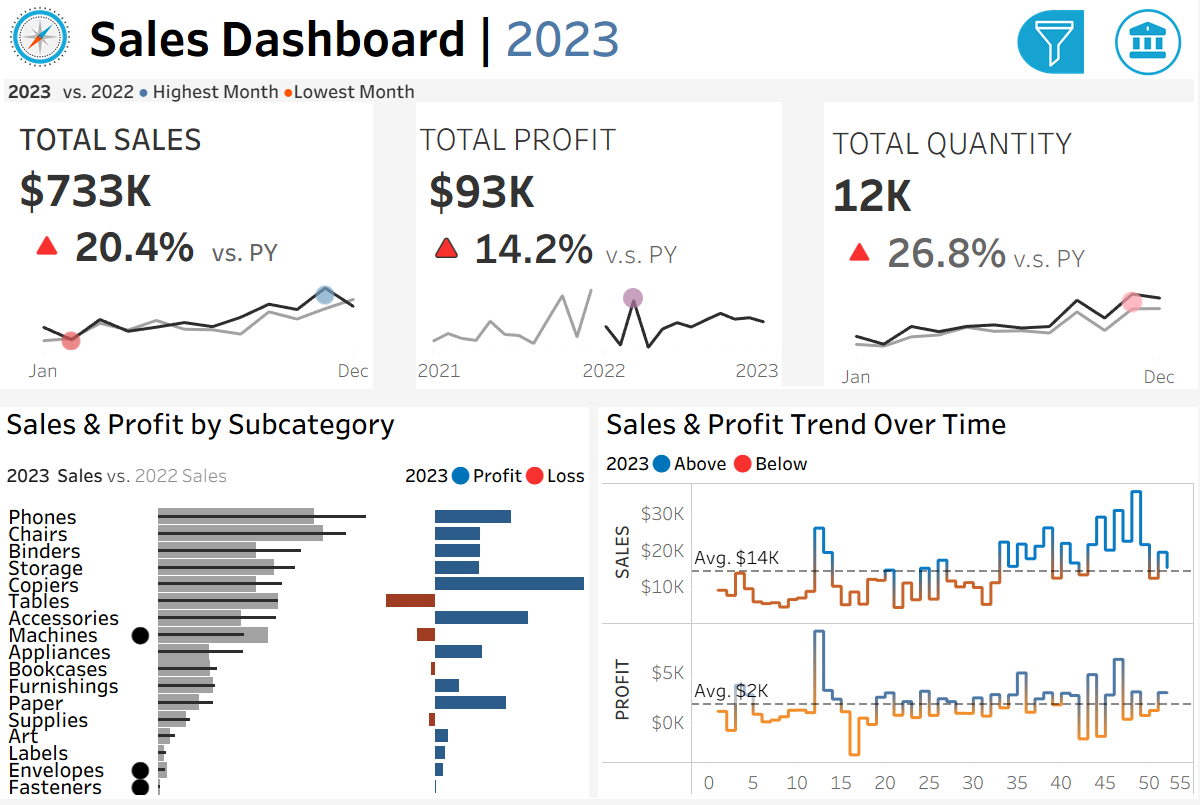

What the dashboard file says about the page in this screenshot:
{"tool":"tableau","page":{"name":"sales dashboard","canvas":[1200,800],"ordinal":0},"visuals":[{"type":"image","param":"Image/Icon - Logo.png","box":[0,0,83,76]},{"type":"text","box":[83,0,916,76]},{"type":"blank","box":[968,1,233,95]},{"type":"dashboard-object","box":[1002,5,99,76]},{"type":"dashboard-object","box":[1101,5,98,76]},{"type":"worksheet","title":"legend-kpi","mark":"Automatic","box":[0,76,1200,31]},{"type":"text","box":[968,96,233,47]},{"type":"blank","box":[375,100,43,290]},{"type":"blank","box":[784,101,42,286]},{"type":"worksheet","title":"KPI SALES","mark":"Automatic","rows":["Calculation_0355202234413060"],"cols":["Order Date"],"box":[0,107,400,293]},{"type":"worksheet","title":"KPI PROFIT","mark":"Automatic","rows":["Calculation_0847508627963913"],"cols":["Order Date"],"box":[400,107,400,293]},{"type":"worksheet","title":"KPI QUANTITY","mark":"Automatic","rows":["Calculation_0847508628475914"],"cols":["Order Date"],"box":[800,107,400,293]},{"type":"parameter","param":"[Parameters].[Parameter 1]","box":[968,143,233,60]},{"type":"text","box":[968,203,233,39]},{"type":"filter","title":"KPI SALES","param":"[federated.06dhms10vedjig11m1vn91yoiat6].[none:Category:nk]","box":[968,242,233,70]},{"type":"blank","box":[968,312,233,140]},{"type":"text","box":[0,400,600,47]},{"type":"text","box":[600,400,600,47]},{"type":"blank","box":[591,408,9,391]},{"type":"worksheet","title":"Sheet 7","mark":"Automatic","box":[0,447,399,58]},{"type":"text","box":[399,447,201,58]},{"type":"text","box":[600,447,600,33]},{"type":"text","box":[968,452,233,39]},{"type":"worksheet","title":"WEEKLY TRENDS","mark":"Automatic","rows":["Calculation_0355202227863552","Calculation_0847508615479296"],"cols":["Order Date"],"box":[600,480,600,320]},{"type":"filter","title":"KPI SALES","param":"[federated.06dhms10vedjig11m1vn91yoiat6].[none:Country/Region:nk]","box":[968,491,233,94]},{"type":"worksheet","title":"Subcategory Comparison","mark":"Bar","rows":["Sub-Category","Calculation_0601218307100672"],"cols":["CY SALES (copy)_0355202228256769","Calculation_0355202227863552","Calculation_0847508615479296"],"box":[0,505,600,295]},{"type":"filter","title":"KPI SALES","param":"[federated.06dhms10vedjig11m1vn91yoiat6].[none:Region:nk]","box":[968,585,233,70]},{"type":"filter","title":"KPI SALES","param":"[federated.06dhms10vedjig11m1vn91yoiat6].[none:State:nk]","box":[968,655,233,70]},{"type":"filter","title":"KPI SALES","param":"[federated.06dhms10vedjig11m1vn91yoiat6].[none:City:nk]","box":[968,725,233,70]}]}

Visuals, with their boxes in screenshot pixels (x1, y1, x2, y2), scaled from the page's 1200x800 canvas onto the 1200x805 screenshot:
image: crop(0, 0, 83, 76)
text: crop(83, 0, 999, 76)
blank: crop(968, 1, 1199, 97)
dashboard-object: crop(1002, 5, 1101, 82)
dashboard-object: crop(1101, 5, 1199, 82)
"legend-kpi" worksheet: crop(0, 76, 1199, 108)
text: crop(968, 97, 1199, 144)
blank: crop(375, 101, 418, 392)
blank: crop(784, 102, 826, 389)
"KPI SALES" worksheet: crop(0, 108, 400, 403)
"KPI PROFIT" worksheet: crop(400, 108, 800, 403)
"KPI QUANTITY" worksheet: crop(800, 108, 1199, 403)
parameter: crop(968, 144, 1199, 204)
text: crop(968, 204, 1199, 244)
"KPI SALES" filter: crop(968, 244, 1199, 314)
blank: crop(968, 314, 1199, 455)
text: crop(0, 403, 600, 450)
text: crop(600, 403, 1199, 450)
blank: crop(591, 411, 600, 804)
"Sheet 7" worksheet: crop(0, 450, 399, 508)
text: crop(399, 450, 600, 508)
text: crop(600, 450, 1199, 483)
text: crop(968, 455, 1199, 494)
"WEEKLY TRENDS" worksheet: crop(600, 483, 1199, 804)
"KPI SALES" filter: crop(968, 494, 1199, 589)
"Subcategory Comparison" worksheet (Bar marks): crop(0, 508, 600, 804)
"KPI SALES" filter: crop(968, 589, 1199, 659)
"KPI SALES" filter: crop(968, 659, 1199, 730)
"KPI SALES" filter: crop(968, 730, 1199, 800)
